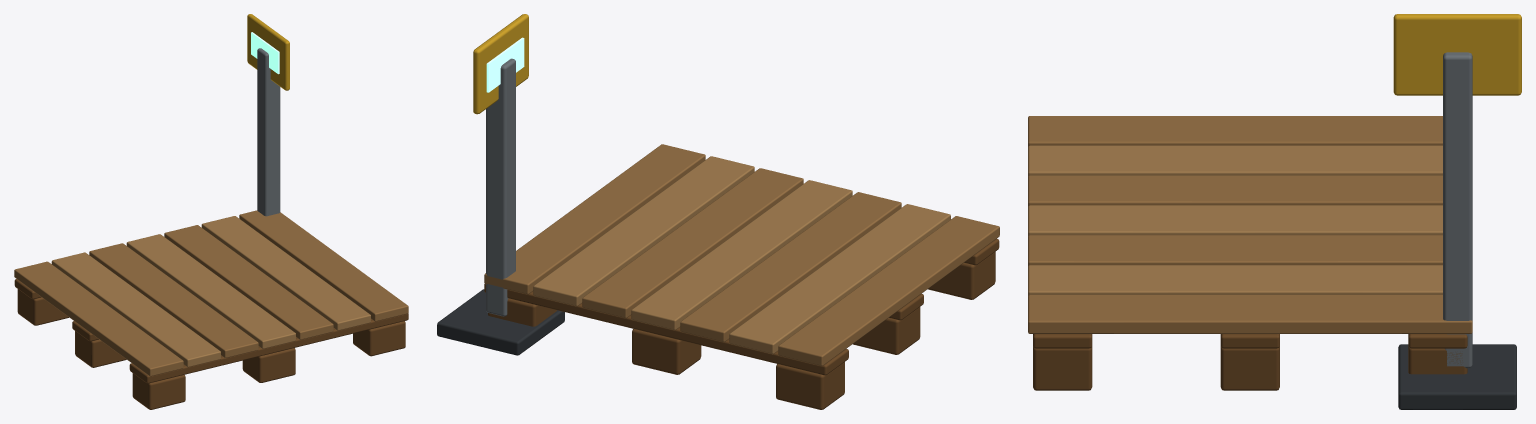
The model's file is pp_pallet.glb.
3 views of the same model, side by side, from view 1: azimuth 30°, elevation 25°; view 2: azimuth 150°, elevation 25°; view 3: azimuth 270°, elevation 25° (orthographic). The views are drawn at different scales.
Visible parts, largest first — view 1: block.013, block.018, block.017, block.014, block.015, block.016, block.019, block.020, block.004, block.021, block.001, block.002 (+4 smaller); view 2: block.013, block.015, block.017, block.018, block.014, block.016, block.019, block.020, block, block.012, block.021, block.009 (+5 smaller); view 3: block.019, block.015, block.016, block.014, block.017, block.013, block.018, block.021, block.020, block, block.007, block.003 (+4 smaller).
Part boxes in pixels (x1,y1,x2,y2): block.013: [14, 261, 183, 376]; block.018: [201, 216, 370, 330]; block.017: [164, 225, 333, 339]; block.014: [51, 252, 220, 367]; block.015: [89, 243, 258, 357]; block.016: [126, 234, 295, 348]; block.019: [239, 210, 408, 321]; block.020: [257, 48, 280, 216]; block.004: [129, 313, 408, 383]; block.021: [247, 14, 289, 90]; block.001: [132, 373, 185, 409]; block.002: [242, 348, 295, 382]; block.013: [778, 216, 999, 365]; block.015: [680, 192, 901, 342]; block.017: [582, 168, 803, 318]; block.018: [533, 156, 754, 306]; block.014: [729, 204, 950, 354]; block.016: [631, 180, 852, 330]; block.019: [484, 144, 705, 294]; block.020: [486, 58, 515, 316]; block: [437, 289, 564, 355]; block.012: [484, 284, 848, 375]; block.021: [473, 14, 528, 114]; block.009: [776, 362, 844, 409]; block.019: [1028, 295, 1472, 333]; block.015: [1028, 175, 1442, 206]; block.016: [1028, 205, 1442, 236]; block.014: [1028, 145, 1442, 176]; block.017: [1028, 235, 1442, 266]; block.013: [1028, 116, 1442, 146]; block.018: [1028, 265, 1442, 296]; block.021: [1393, 14, 1521, 95]; block.020: [1443, 52, 1472, 368]; block: [1398, 344, 1516, 409]; block.007: [1220, 346, 1279, 390]; block.003: [1033, 346, 1092, 390].
Bounding box in the file's own units: 1.08 × 0.83 × 1.
